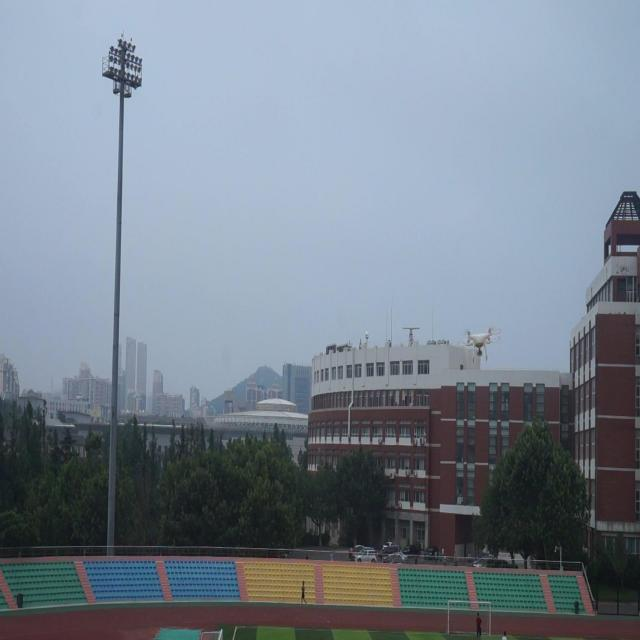UAV: (458, 327, 502, 363)
